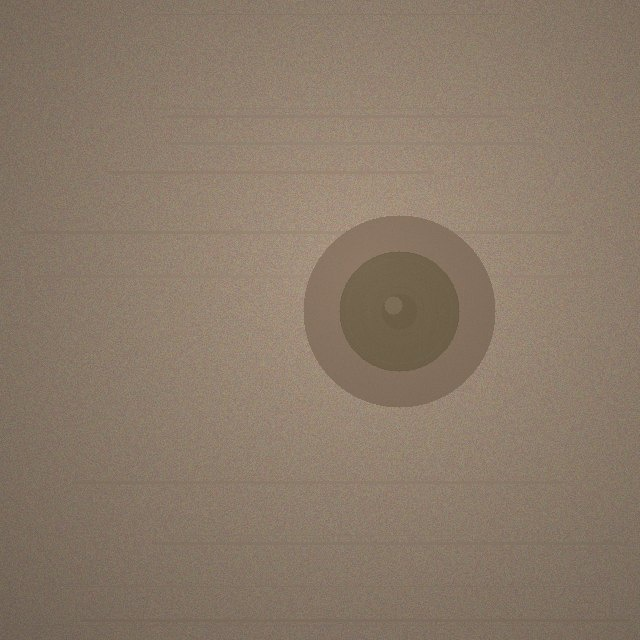good: (303, 215, 495, 407)
